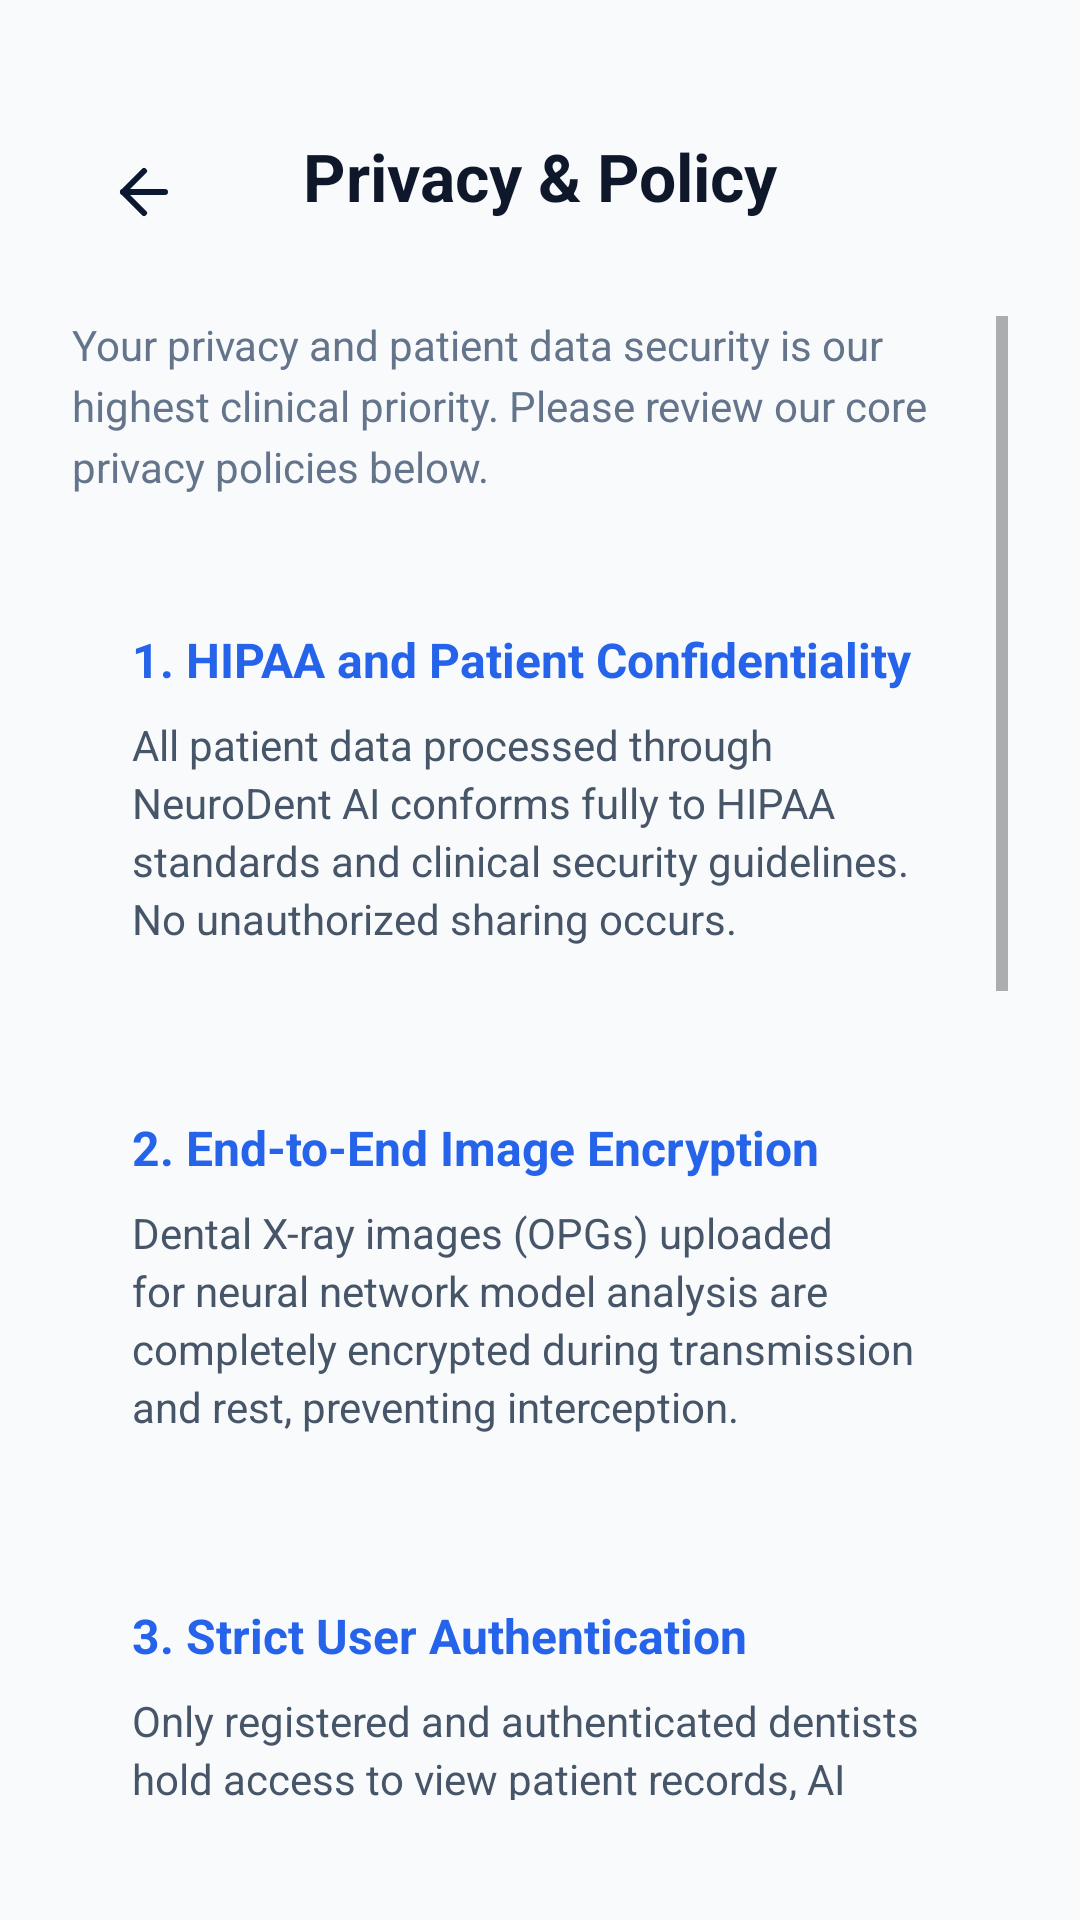

Where icons sit on this 1080*1920 app screen, as (x1, y1, x2, y2):
arrow back: (120, 168, 168, 216)
